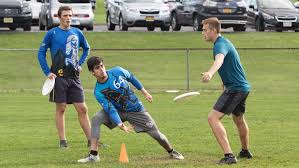disc: (173, 90, 200, 103), (42, 74, 55, 95)
